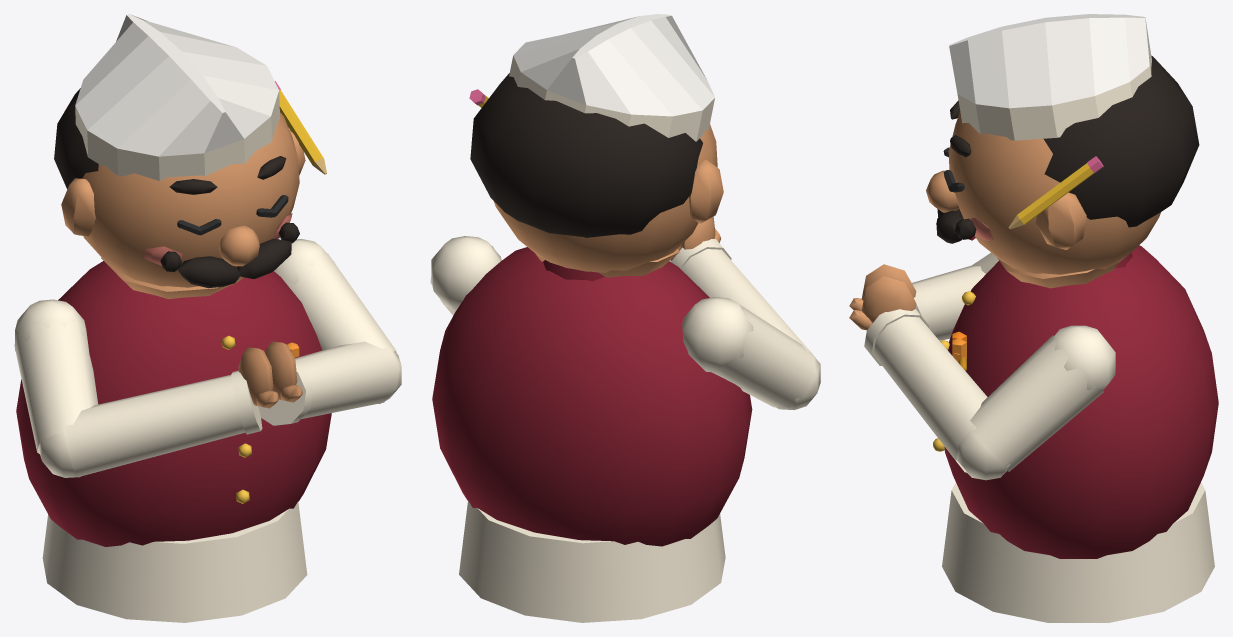
The model's file is munshi_namaste.glb.
3 views of the same model, side by side, from view 1: azimuth 30°, elevation 25°; view 2: azimuth 150°, elevation 25°; view 3: azimuth 270°, elevation 25° (orthographic).
Parts seen in each view (by area): view 1: body, head, arm_r, arm_l; view 2: body, head, arm_r, arm_l; view 3: body, head, arm_l, arm_r.
Boxes of the visible parts, x1=… form: body: x1=16, y1=261, x2=331, y2=622; head: x1=54, y1=14, x2=326, y2=299; arm_r: x1=14, y1=299, x2=278, y2=477; arm_l: x1=258, y1=239, x2=401, y2=425; body: x1=432, y1=247, x2=752, y2=622; head: x1=469, y1=14, x2=723, y2=277; arm_r: x1=671, y1=216, x2=820, y2=409; arm_l: x1=430, y1=236, x2=680, y2=315; body: x1=933, y1=245, x2=1218, y2=622; head: x1=926, y1=14, x2=1199, y2=288; arm_l: x1=849, y1=276, x2=1115, y2=480; arm_r: x1=849, y1=253, x2=998, y2=340.
Size of the model in its own units: 1.09 by 1.56 by 0.9613.
Materials: 1 (1 with a texture image).
